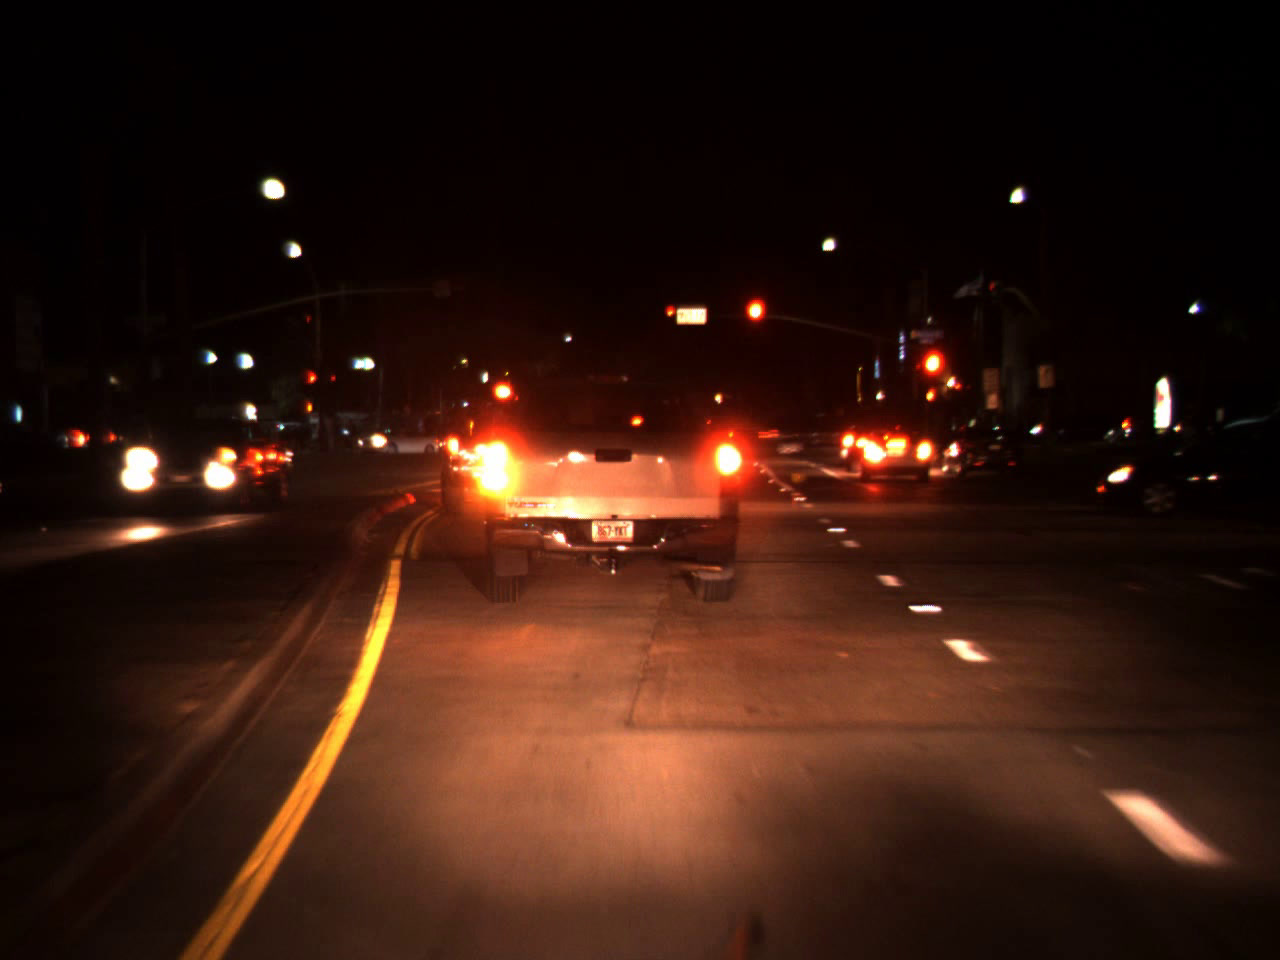stop: (916, 343, 949, 413), (742, 295, 769, 349), (665, 303, 677, 330), (306, 369, 318, 396)
